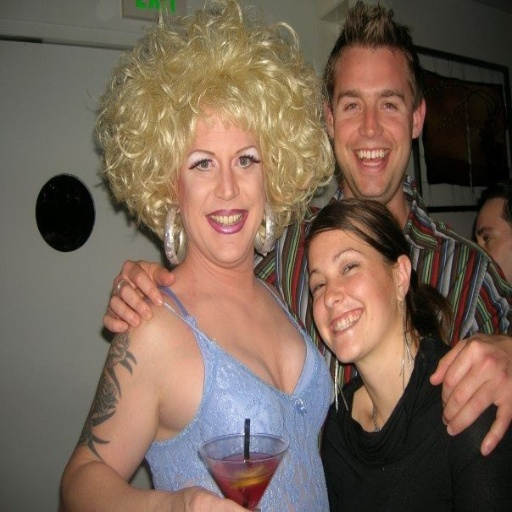hand: (434, 327, 510, 450), (99, 258, 176, 336), (167, 484, 261, 509)
